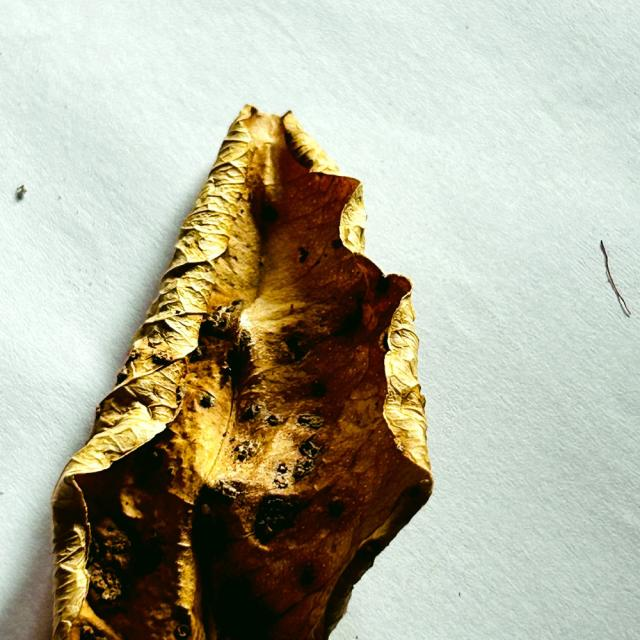DryLeaf_Lemon: (52, 106, 433, 639)
